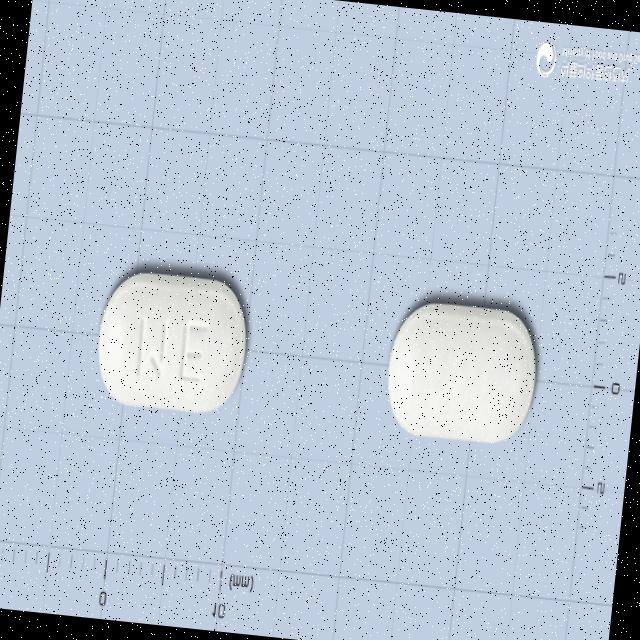Meiact Tab- Boryung: (382, 297, 543, 449), (92, 265, 253, 416)
